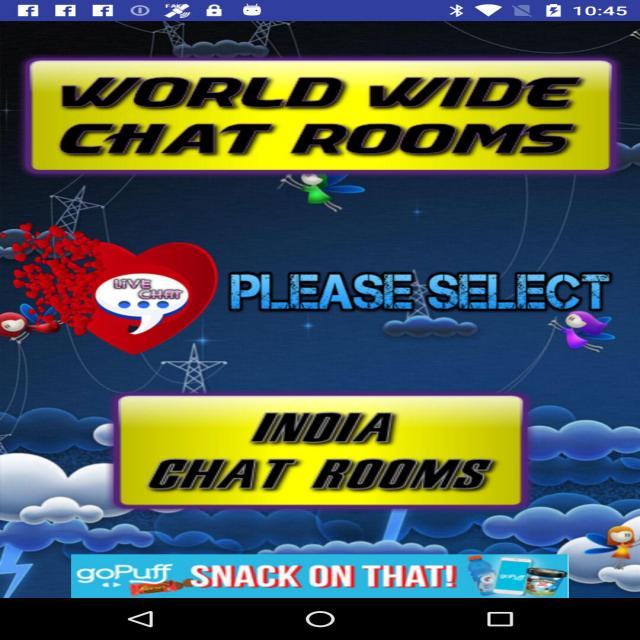image: (7, 222, 222, 344), (72, 552, 568, 600)
text: (33, 60, 612, 176), (120, 400, 527, 507), (220, 258, 640, 326)
